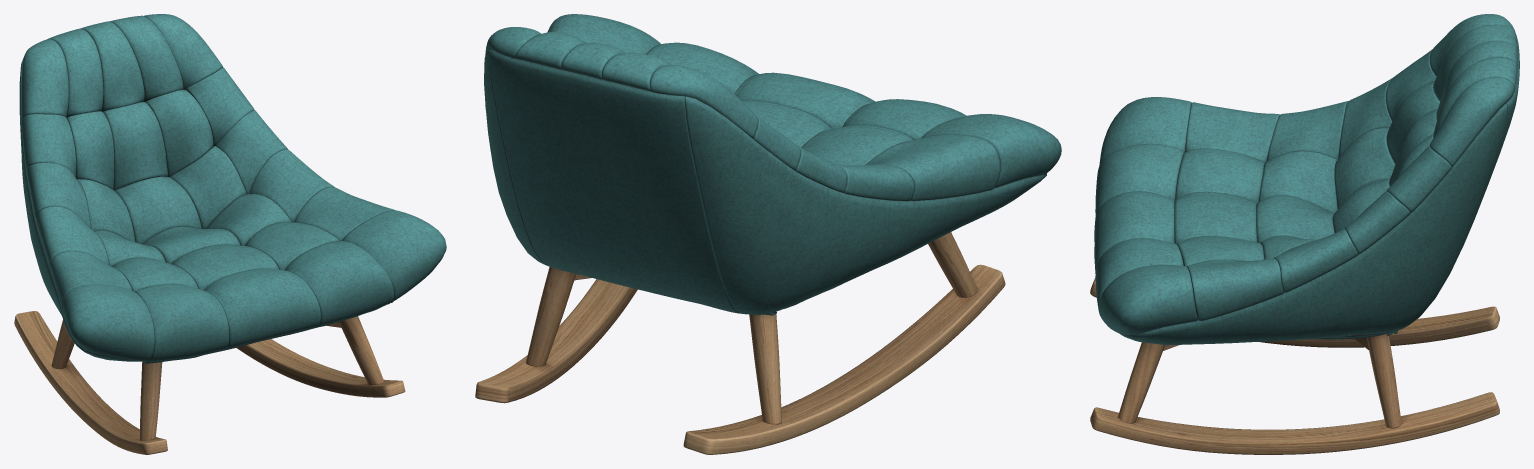
Rendered from rocking_chair.glb.
3 views of the same model, side by side, from view 1: azimuth 30°, elevation 25°; view 2: azimuth 150°, elevation 25°; view 3: azimuth 270°, elevation 25° (orthographic). The views are drawn at different scales.
Parts seen in each view (by area): view 1: FABRIC, WOOD; view 2: FABRIC, WOOD; view 3: FABRIC, WOOD.
Boxes of the visible parts, x1=… form: FABRIC: x1=19, y1=14, x2=446, y2=363; WOOD: x1=14, y1=311, x2=405, y2=454; FABRIC: x1=484, y1=14, x2=1061, y2=315; WOOD: x1=475, y1=232, x2=1005, y2=454; FABRIC: x1=1094, y1=14, x2=1519, y2=345; WOOD: x1=1090, y1=278, x2=1499, y2=454.
Size of what is drawn, in the model's own units: 114 by 88.12 by 98.89.
2 materials, 2 textured.
